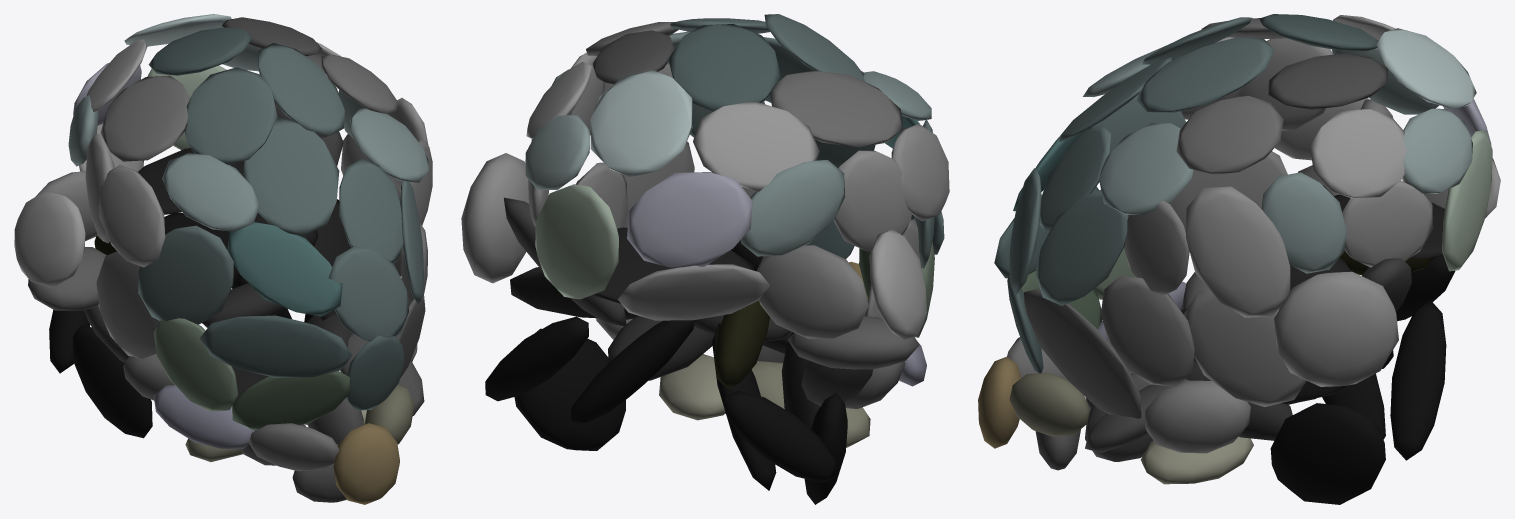
File: DamagedHelmet_512B_ellip.glb
The picture shows the model from 3 angles, left to right: view 1: azimuth 30°, elevation 25°; view 2: azimuth 150°, elevation 25°; view 3: azimuth 270°, elevation 25°; orthographic projection. The views are drawn at different scales.
Size of the model in its own units: 1.94 by 1.88 by 2.03.
